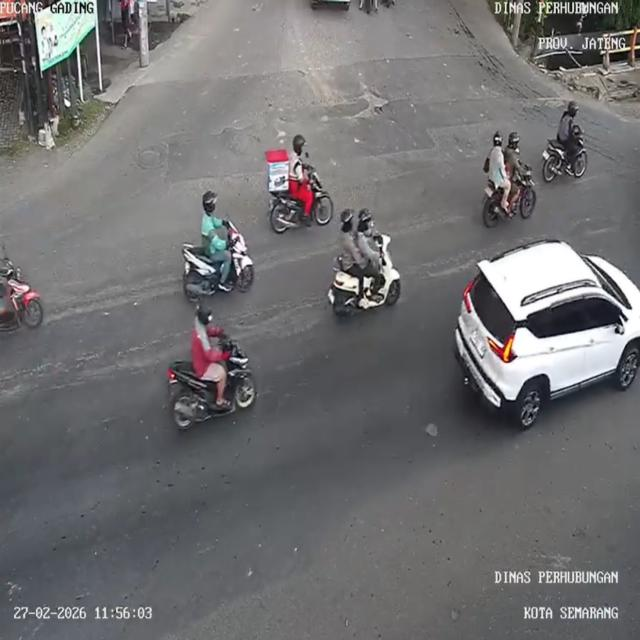motorcycle: (165, 355, 258, 427), (176, 238, 265, 307), (330, 259, 403, 318), (0, 249, 48, 330), (267, 181, 329, 231), (482, 170, 538, 220), (546, 138, 587, 184)
person: (186, 297, 225, 378), (200, 188, 233, 265), (356, 206, 378, 278), (334, 204, 356, 273), (558, 98, 586, 150), (482, 125, 504, 189), (506, 127, 524, 183), (287, 129, 305, 184)
rider_region: (169, 304, 258, 429), (182, 190, 256, 300), (330, 209, 403, 318), (266, 132, 334, 234), (482, 132, 537, 226), (540, 98, 588, 184)
